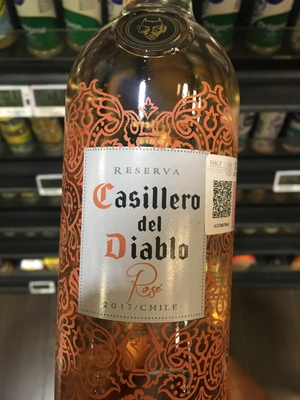casillero del diablo rose: (55, 24, 238, 400)
